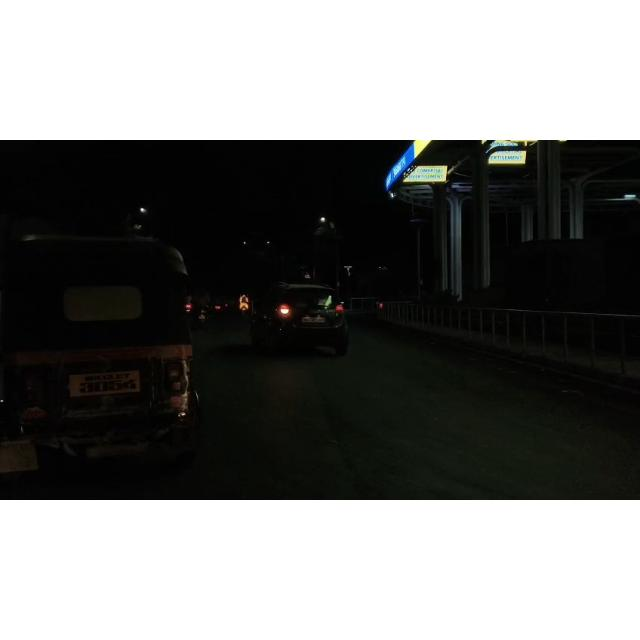auto: (0, 215, 212, 473)
car: (247, 280, 369, 370)
